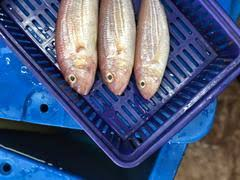Ikan Kerisi: (53, 1, 99, 98), (134, 2, 174, 103), (96, 2, 137, 98)
